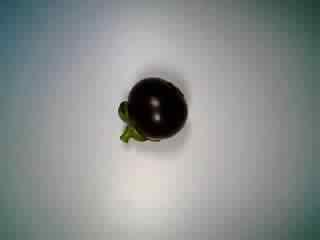mangosteen: (114, 70, 191, 153)
